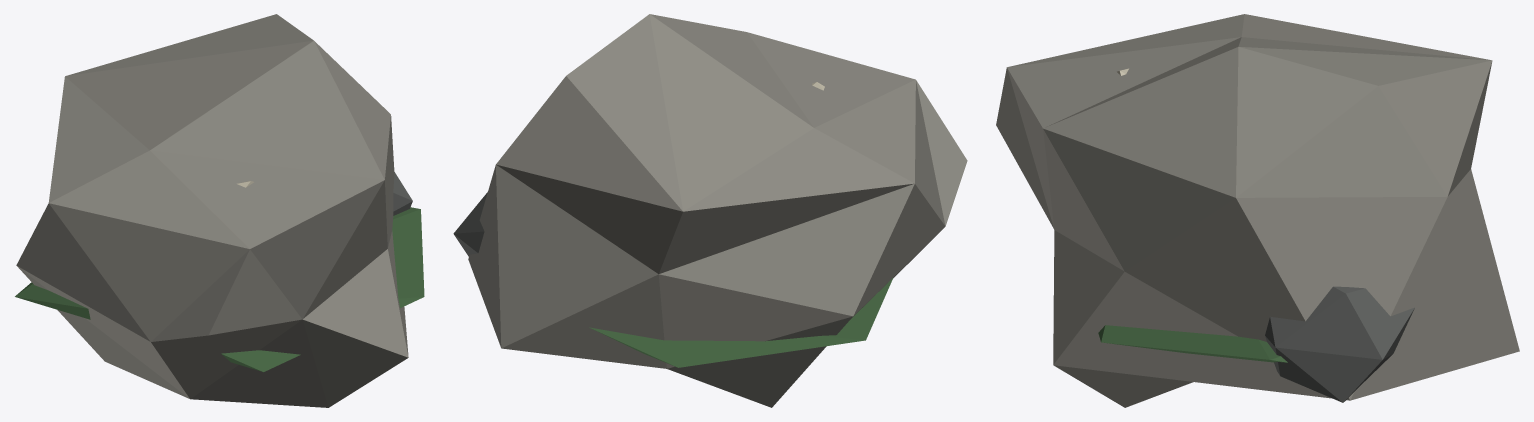
File: rock_1_lod1.glb
The picture shows the model from 3 angles, left to right: view 1: azimuth 30°, elevation 25°; view 2: azimuth 150°, elevation 25°; view 3: azimuth 270°, elevation 25°; orthographic projection. The views are drawn at different scales.
Parts seen in each view (by area): view 1: rock_1_lod1; view 2: rock_1_lod1; view 3: rock_1_lod1.
Boxes of the visible parts, x1=… form: rock_1_lod1: x1=15, y1=14, x2=424, y2=407; rock_1_lod1: x1=453, y1=14, x2=967, y2=407; rock_1_lod1: x1=996, y1=14, x2=1519, y2=407.
Size of the model in its own units: 2.02 by 1.58 by 1.97.
